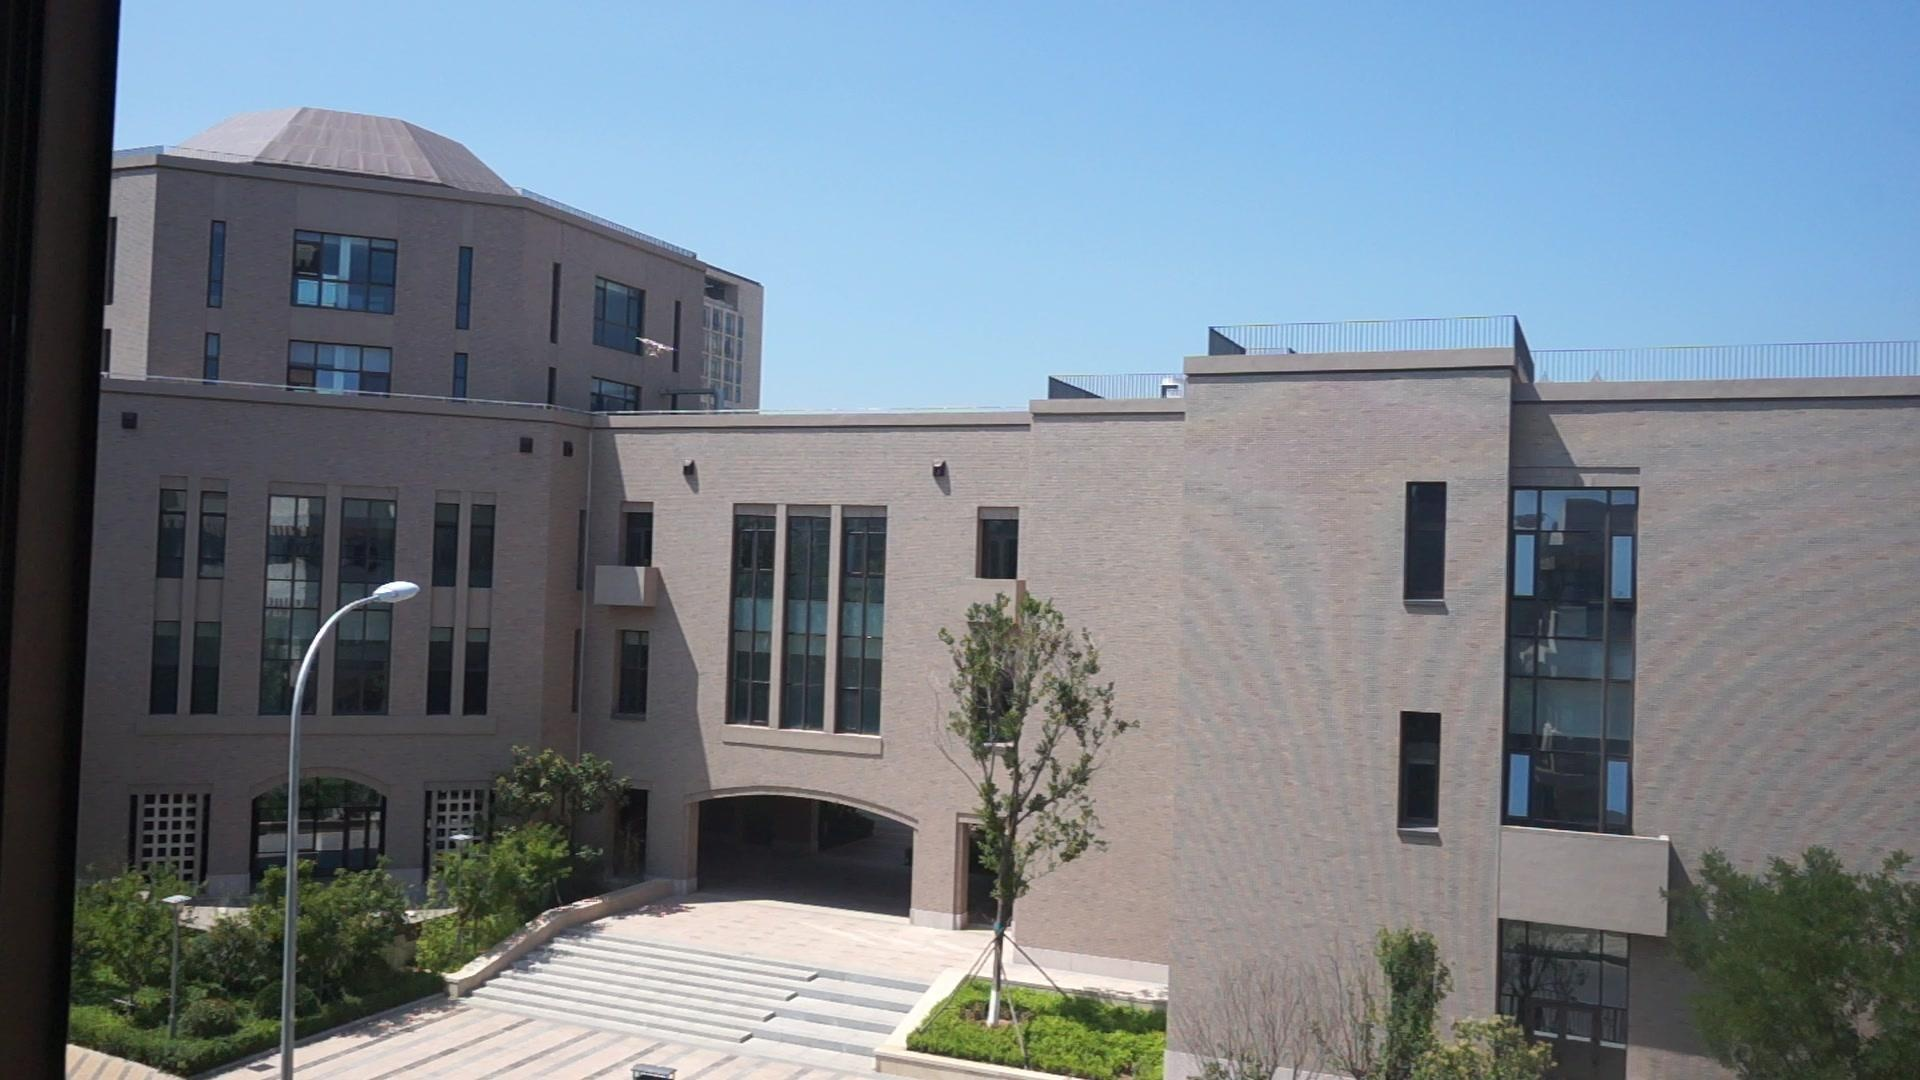UAV: (636, 338, 679, 360)
